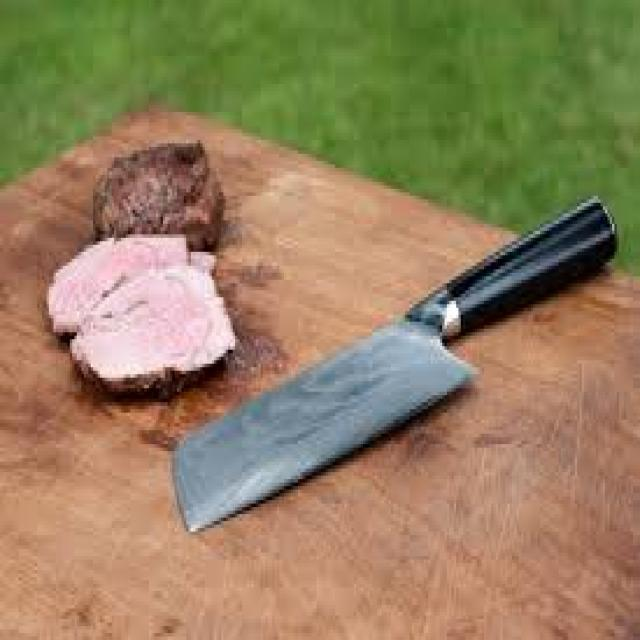cleaver: (185, 184, 624, 546)
